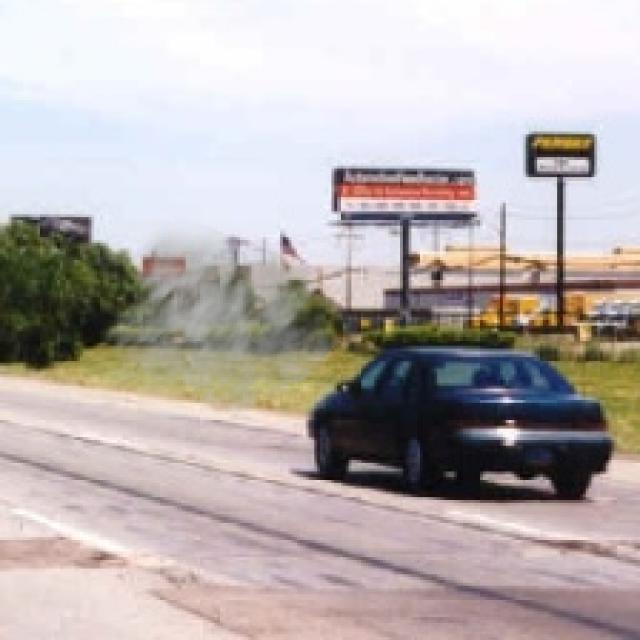Smoke: (95, 214, 352, 420)
